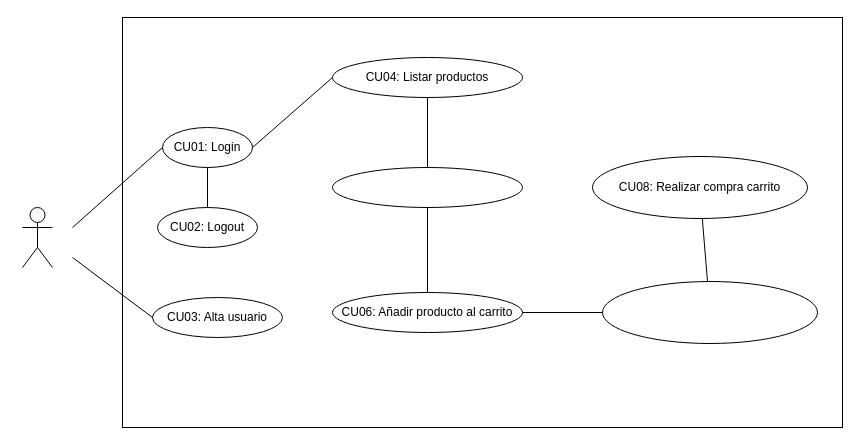
Some shapes in this 860 by 445 pixel diagram are drawn without their labels. Here are the shapes that lost their labels. From the top down, the centre of each, then its label:
[427,187]: CU05: visualizar producto
[37,237]: Usuario
[710,312]: CU07: Visualizar contenido carrito
